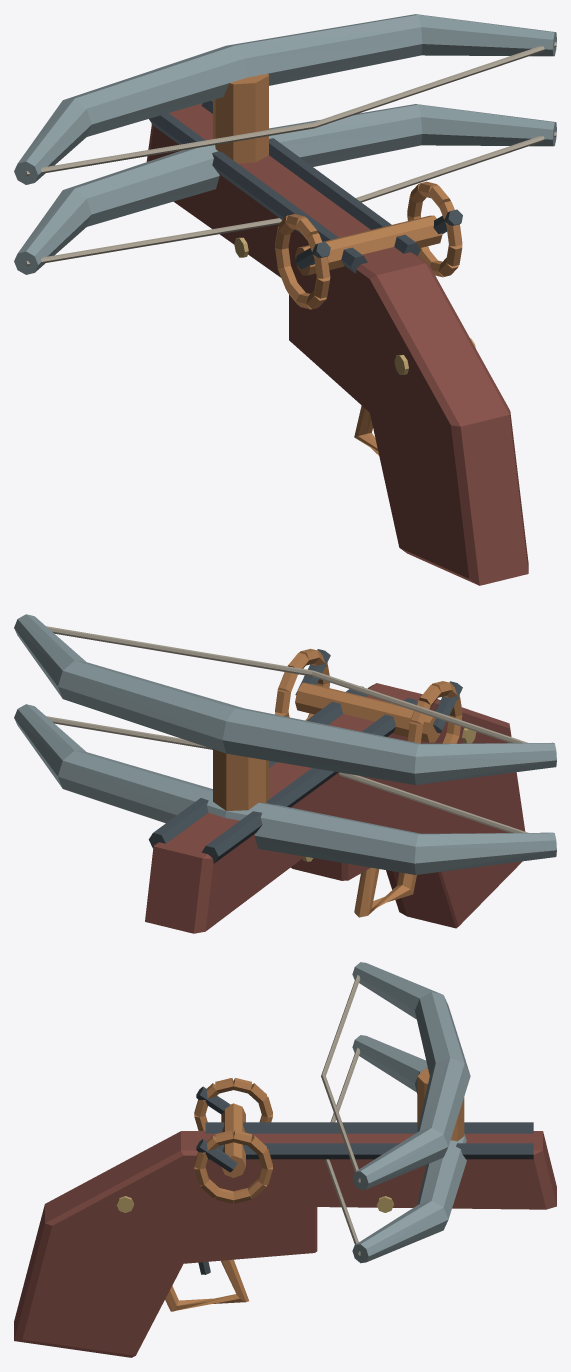
The model's file is AEW_Crossbow_ClockAbbey.fbx.
The picture shows the model from 3 angles, top to bottom: view 1: azimuth 30°, elevation 25°; view 2: azimuth 150°, elevation 25°; view 3: azimuth 270°, elevation 25°; orthographic projection. The views are drawn at different scales.
Parts seen in each view (by area): view 1: AEW_Crossbow_ClockAbbey; view 2: AEW_Crossbow_ClockAbbey; view 3: AEW_Crossbow_ClockAbbey.
Part boxes in pixels (<box>): AEW_Crossbow_ClockAbbey: <box>14,14,556,585</box>; AEW_Crossbow_ClockAbbey: <box>14,614,556,933</box>; AEW_Crossbow_ClockAbbey: <box>14,962,556,1357</box>.
Size of the model in its own units: 0.8216 by 0.518 by 0.8775.
